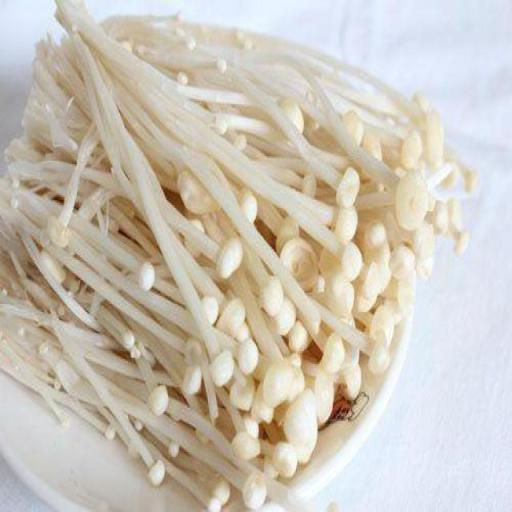Enoki Mushroom: (0, 2, 474, 508)
